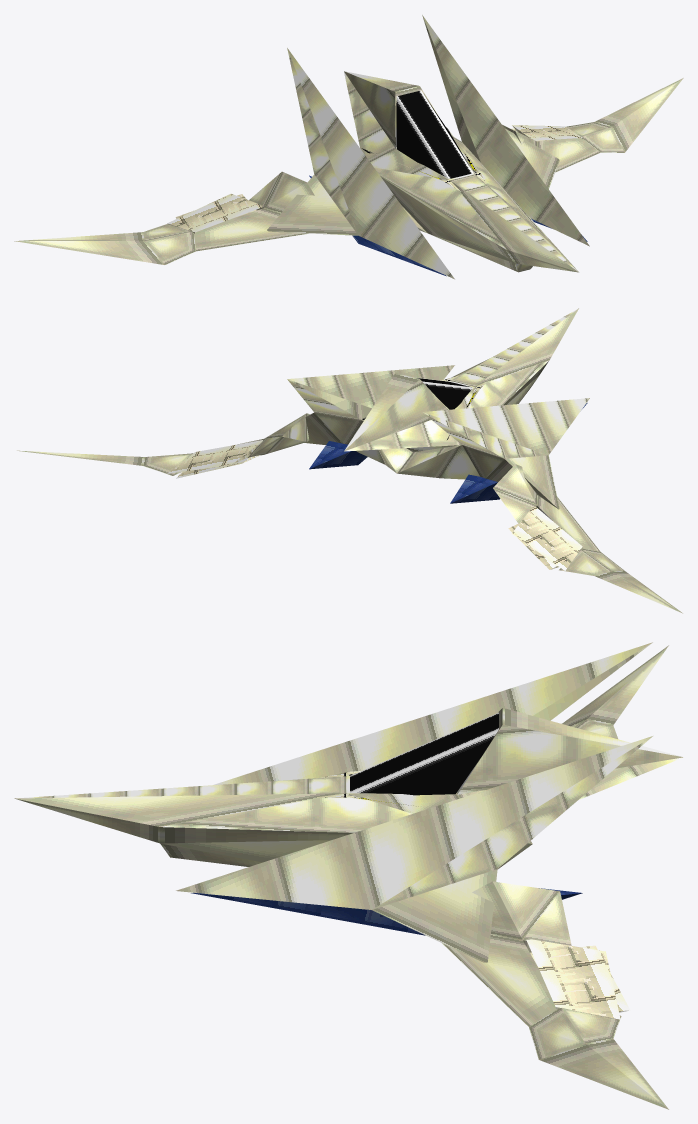
Rendered from Arwing.obj.
3 renders of one model, top to bottom at view 1: azimuth 30°, elevation 25°; view 2: azimuth 150°, elevation 25°; view 3: azimuth 270°, elevation 25°, orthographic. The views are drawn at different scales.
Visible parts, largest first — view 1: aAwBodyDL, aAwLeftWingDL, aAwRightWingDL, aAwCockpitGlassDL, aAwFlap1DL, aAwFlap4DL, aAwLaserGun1DL; view 2: aAwBodyDL, aAwLeftWingDL, aAwRightWingDL, aAwFlap1DL, aAwFlap4DL, aAwLaserGun2L, aAwLaserGun1DL, aAwCockpitGlassDL; view 3: aAwBodyDL, aAwRightWingDL, aAwCockpitGlassDL, aAwFlap4DL, aAwLeftWingDL, aAwLaserGun2L.
Part boxes in pixels (bbox=[...]): aAwBodyDL: bbox=[267, 15, 589, 279]; aAwLeftWingDL: bbox=[14, 171, 314, 264]; aAwRightWingDL: bbox=[502, 78, 683, 172]; aAwCockpitGlassDL: bbox=[396, 90, 473, 178]; aAwFlap1DL: bbox=[167, 193, 263, 233]; aAwFlap4DL: bbox=[512, 125, 582, 141]; aAwLaserGun1DL: bbox=[309, 175, 446, 276]; aAwBodyDL: bbox=[287, 308, 589, 509]; aAwLeftWingDL: bbox=[493, 464, 682, 613]; aAwRightWingDL: bbox=[17, 413, 310, 475]; aAwFlap1DL: bbox=[512, 506, 582, 570]; aAwFlap4DL: bbox=[167, 440, 262, 473]; aAwLaserGun2L: bbox=[309, 441, 367, 469]; aAwLaserGun1DL: bbox=[450, 403, 587, 503]; aAwCockpitGlassDL: bbox=[415, 377, 472, 409]; aAwBodyDL: bbox=[14, 642, 683, 962]; aAwRightWingDL: bbox=[442, 881, 668, 1109]; aAwCockpitGlassDL: bbox=[350, 712, 498, 795]; aAwFlap4DL: bbox=[526, 939, 620, 1019]; aAwLeftWingDL: bbox=[562, 645, 668, 738]; aAwLaserGun2L: bbox=[191, 888, 582, 935].
Size of the model in its own units: 2184 by 463 by 1330.
Materials: 10 (10 with a texture image).
